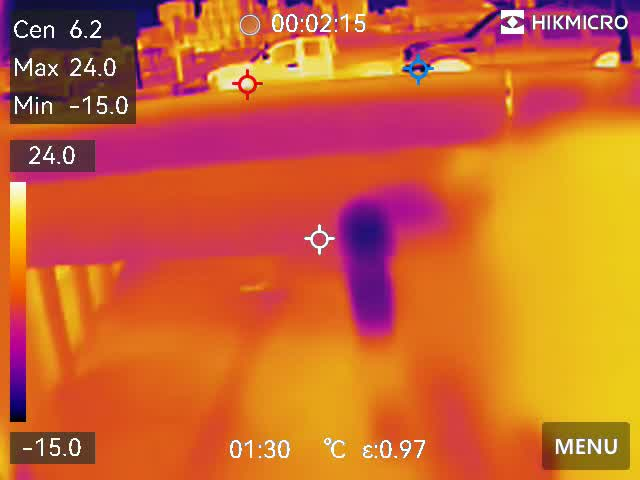largeCar: (407, 6, 624, 73)
lightTruck: (206, 27, 403, 93)
